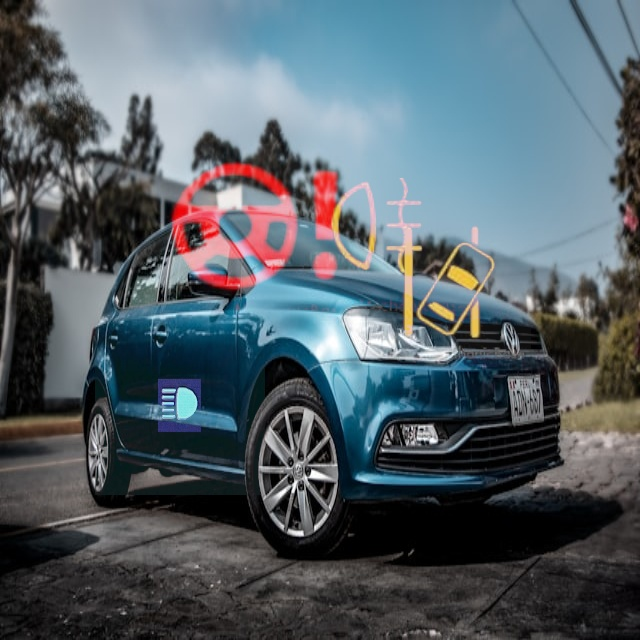symbol: (156, 128, 355, 327), (284, 132, 473, 321), (95, 325, 265, 495), (367, 203, 531, 367)
